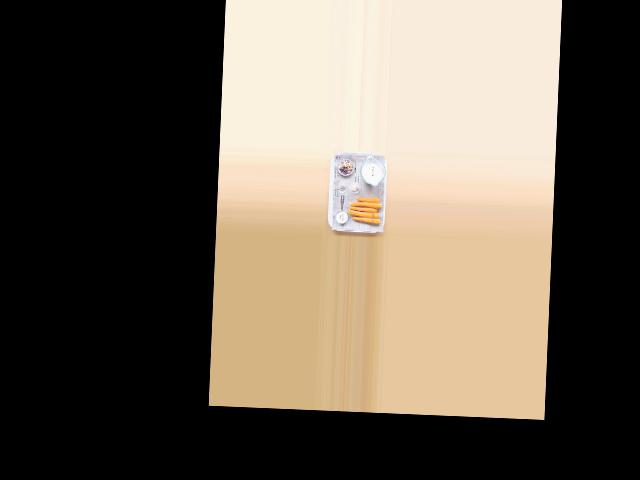carrot: (351, 214, 380, 224)
